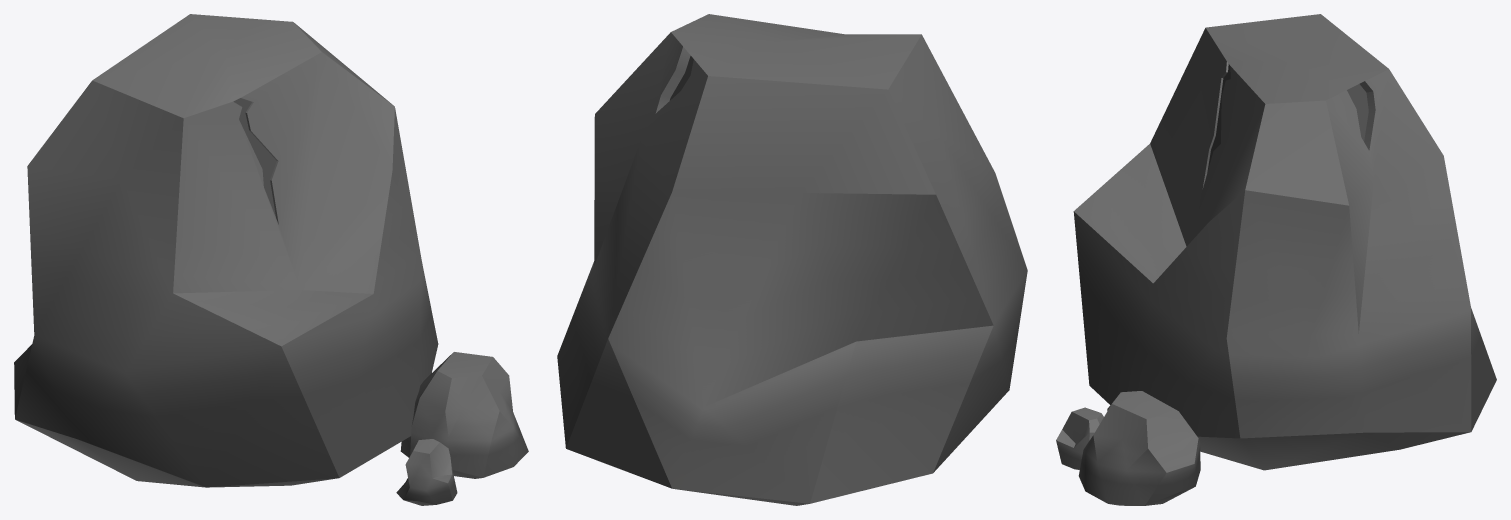
Rendered from RochaToxica.glb.
3 views of the same model, side by side, from view 1: azimuth 30°, elevation 25°; view 2: azimuth 150°, elevation 25°; view 3: azimuth 270°, elevation 25° (orthographic). The views are drawn at different scales.
Visible parts, largest first — view 1: Rochas; view 2: Rochas; view 3: Rochas.
Boxes of the visible parts, box(x1,y1,x2,y2) form: Rochas: box(14, 14, 528, 505); Rochas: box(557, 14, 1027, 505); Rochas: box(1056, 14, 1496, 505).
Bounding box in the file's own units: 1.88 × 1.7 × 1.89.
1 material, 1 textured.
